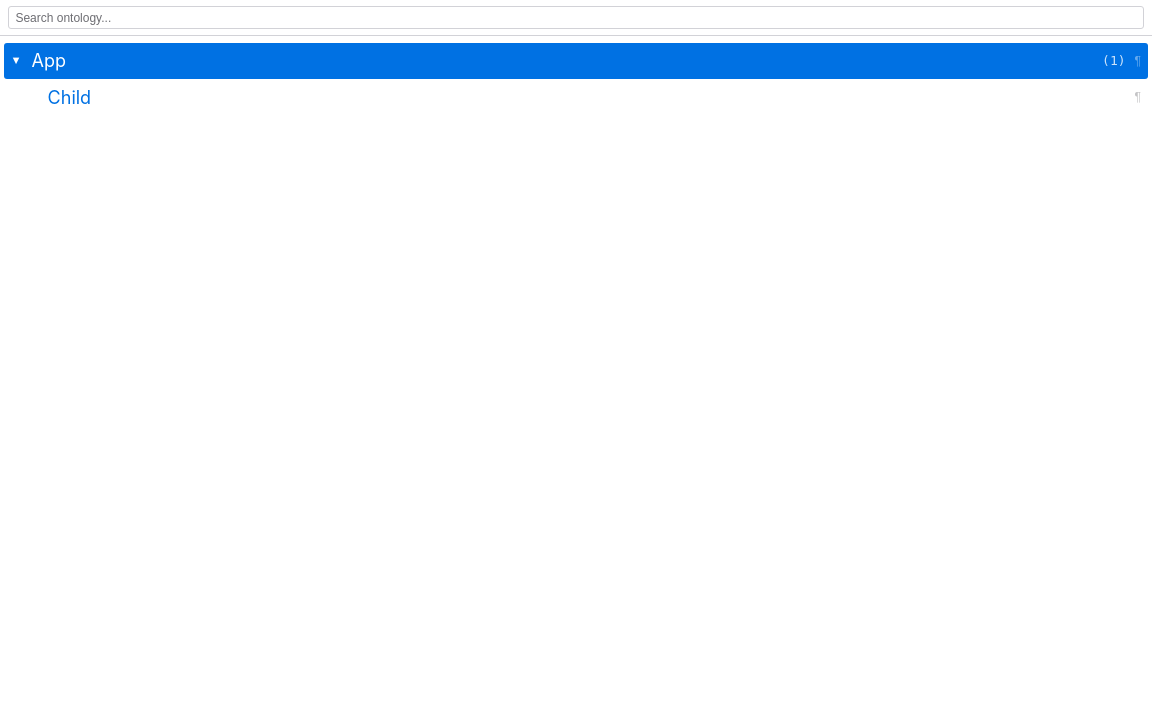
Scenario: OntologyTree component › context menu Rename opens rename dialog
The width and height of the screenshot is (1152, 720).
Right-click the element showing "Child ¶".
right_click(69, 97)  # box x1=48 y1=87 x2=1144 y2=108
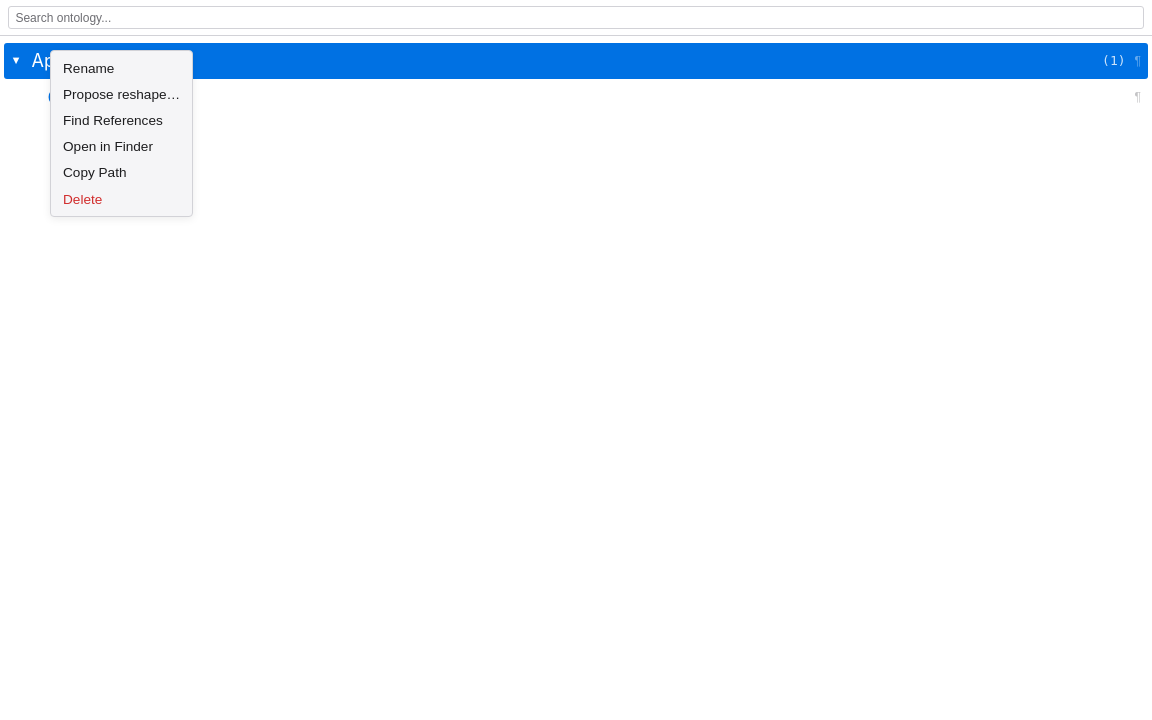
Click the button "Rename".
click(122, 68)  # box x1=51 y1=55 x2=192 y2=81
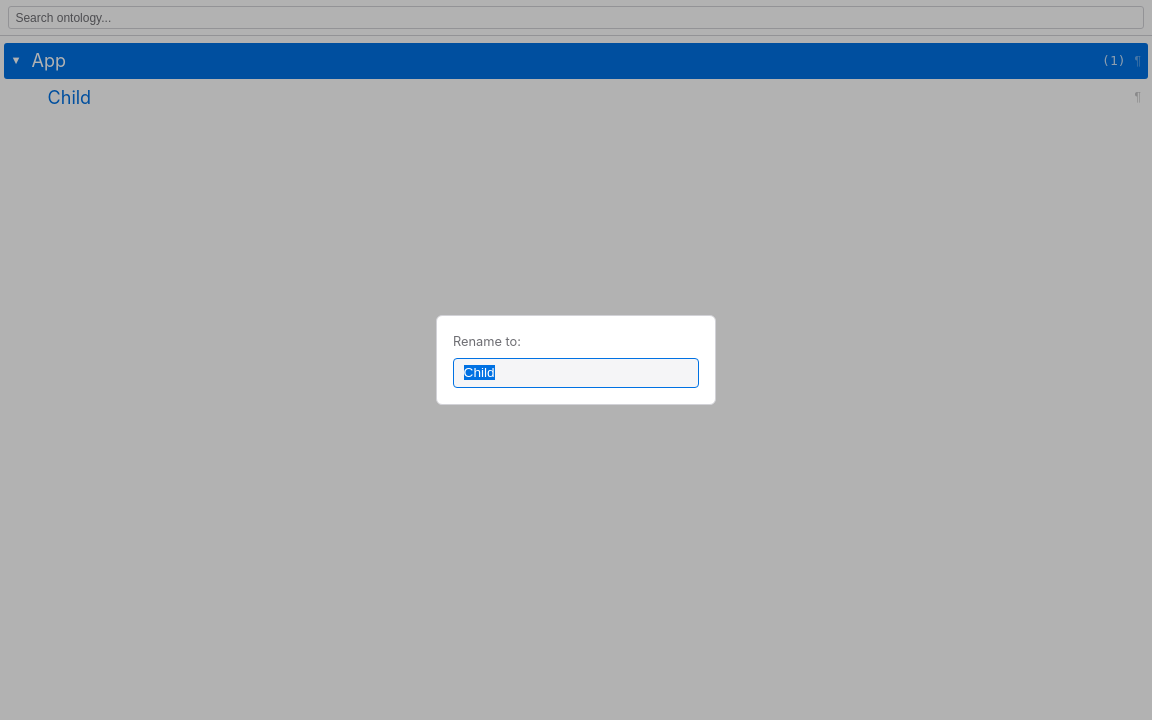
Expected: the text "Rename to:" is shown, x1=453 y1=334 x2=521 y2=349
